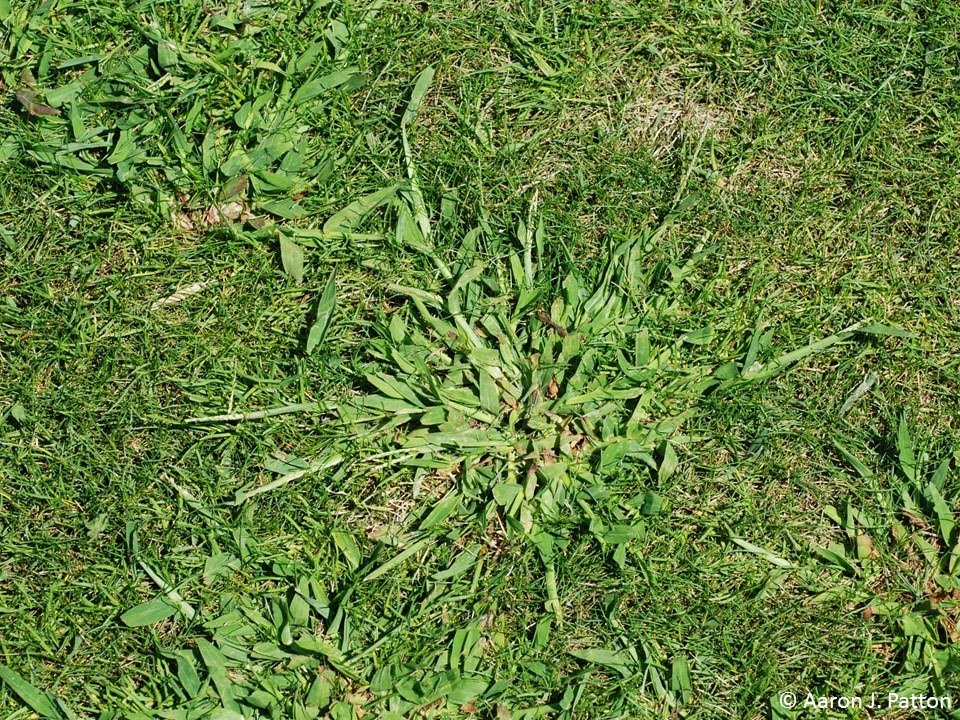crabgrass: (258, 184, 752, 618)
